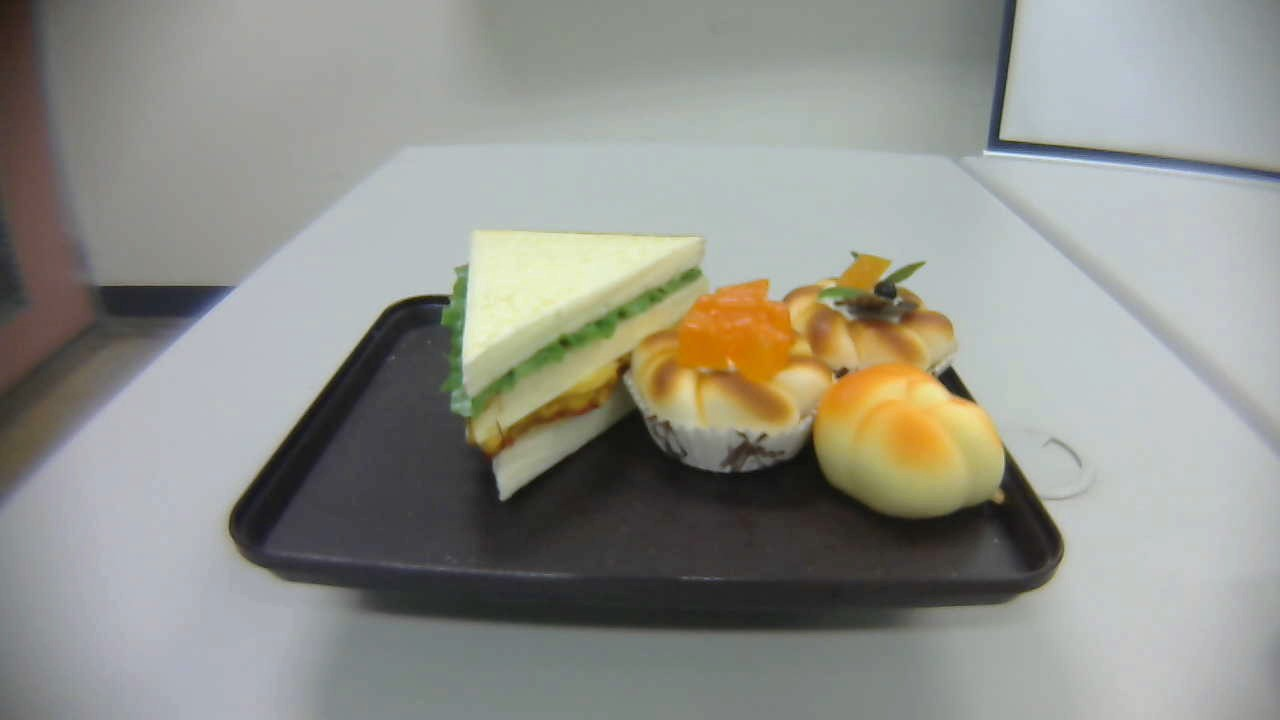fruit tart: (781, 249, 961, 393)
mango tart: (621, 281, 838, 475)
sandwich: (442, 229, 711, 504)
twist bread: (813, 364, 1007, 520)
